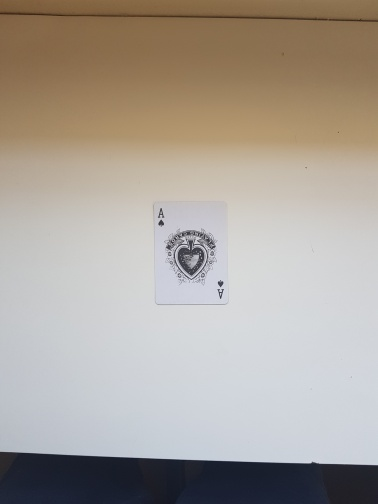ace: (150, 199, 231, 307)
